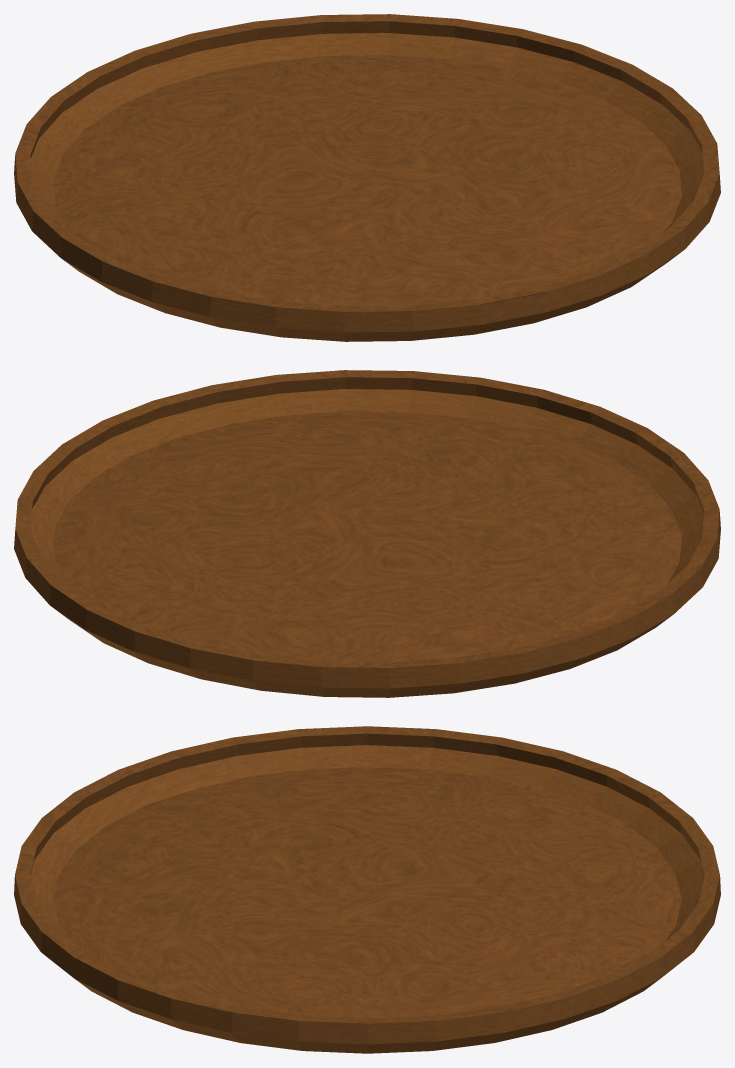
The picture shows the model from 3 angles, top to bottom: view 1: azimuth 30°, elevation 25°; view 2: azimuth 150°, elevation 25°; view 3: azimuth 270°, elevation 25°; orthographic projection.
Parts seen in each view (by area): view 1: base; view 2: base; view 3: base.
Boxes of the visible parts, x1=… form: base: x1=14, y1=14, x2=720, y2=341; base: x1=14, y1=370, x2=720, y2=697; base: x1=14, y1=726, x2=720, y2=1053.
Bounding box in the file's own units: 1.85 × 0.1107 × 1.85.
1 material, 1 textured.
